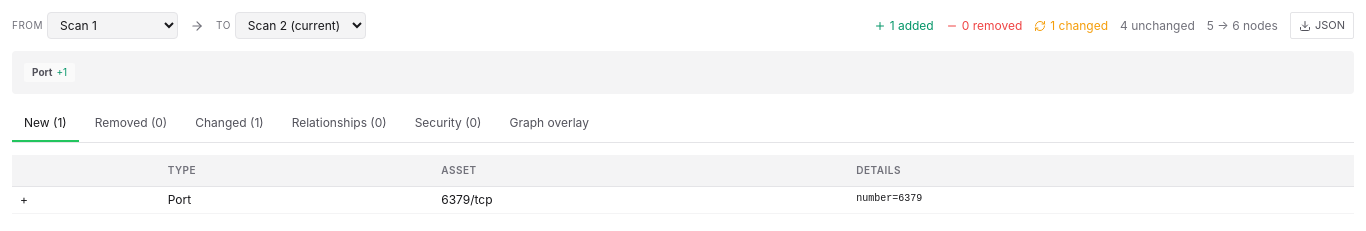
Test: ReconDeltaTable › an overlay error is shown to the user, not left spinning
Expected: the text "1 added" is shown, x1=874 y1=16 x2=934 y2=34
Step 1. Click the tab "Graph overlay" → [549, 124], box x1=498 y1=106 x2=601 y2=142
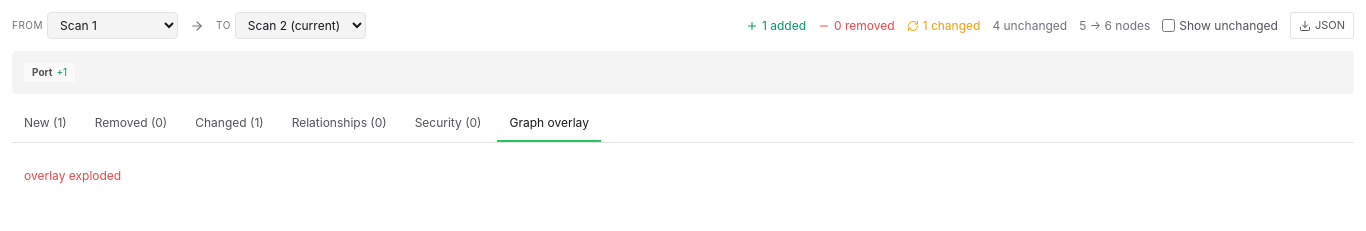
Result: the text "overlay exploded" is shown at x1=24 y1=168 x2=121 y2=183
